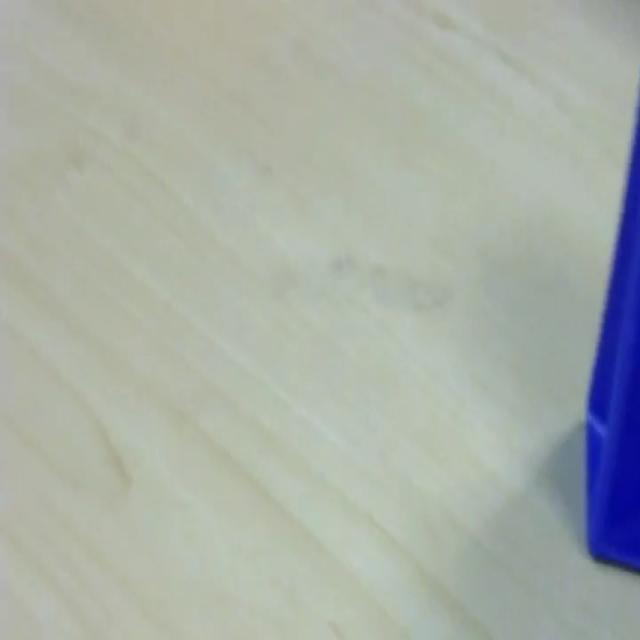blue_block: (582, 73, 639, 572)
